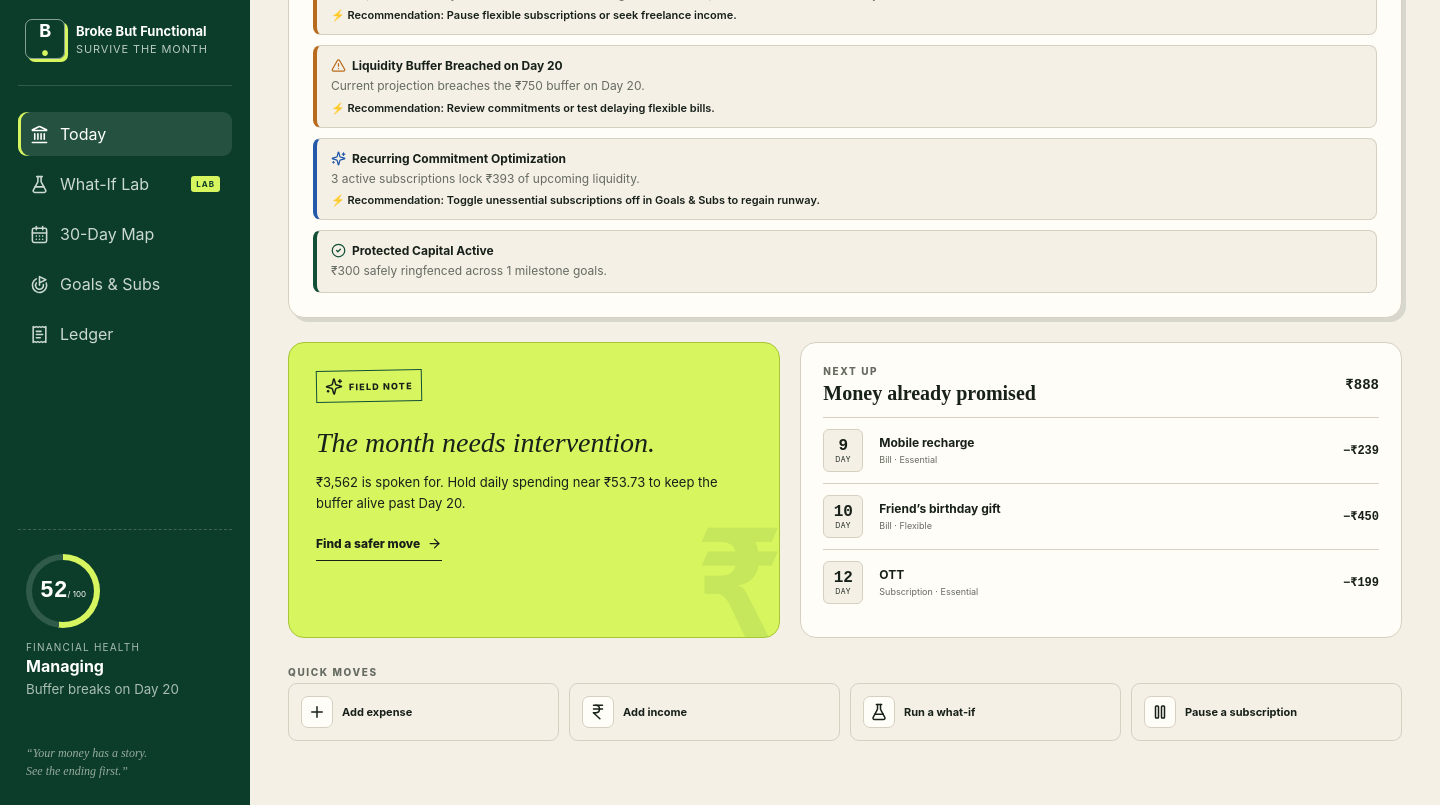
Test: MoneyApp interactions › opens a labelled dialog and closes it with Escape
(page scrolled)
Step 1. Click the button "Add expense" → point(317, 712), box top-left (288, 683), bottom-right (559, 741)
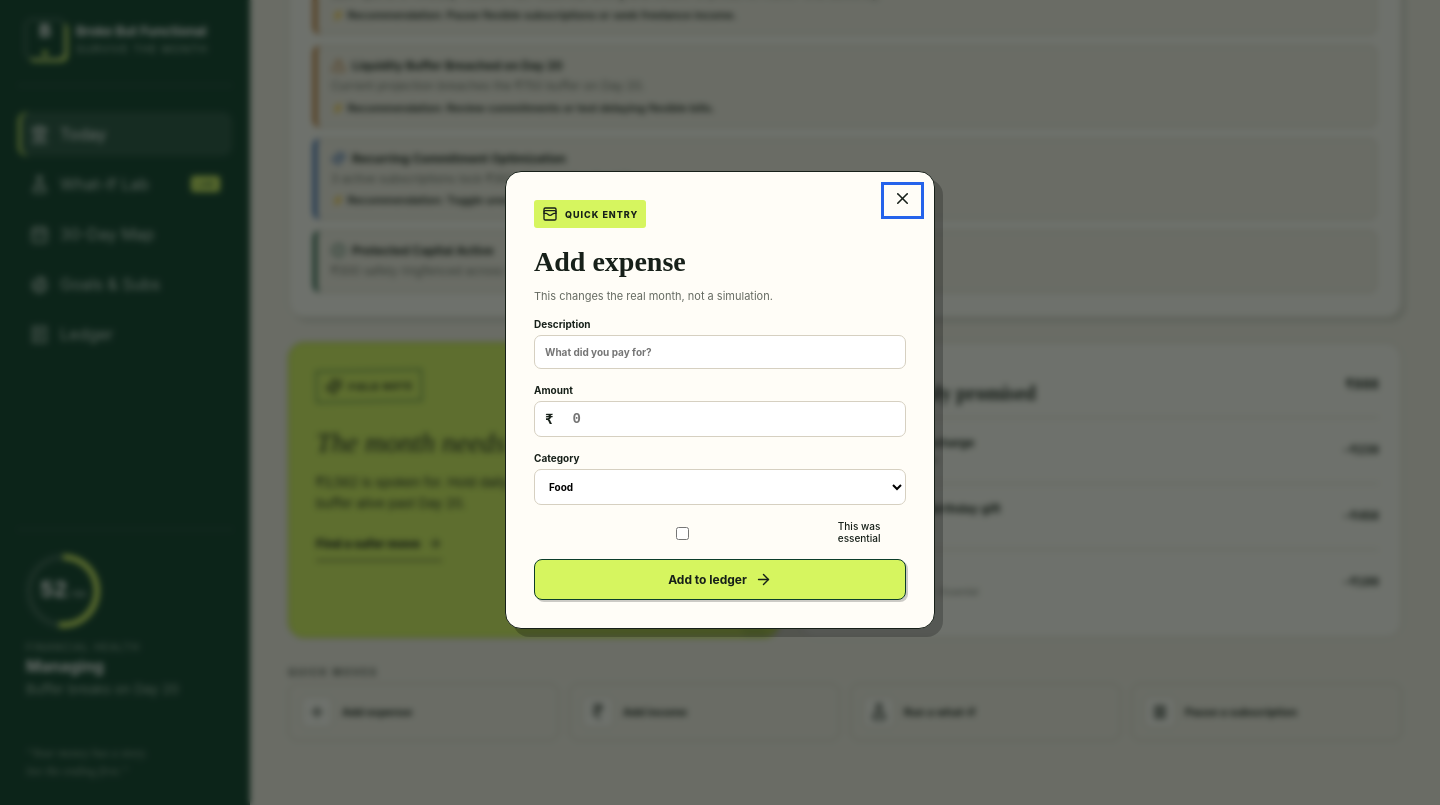
Now the dialog "Add expense" is shown, box top-left (505, 171), bottom-right (935, 629)
Step 2. Press Escape
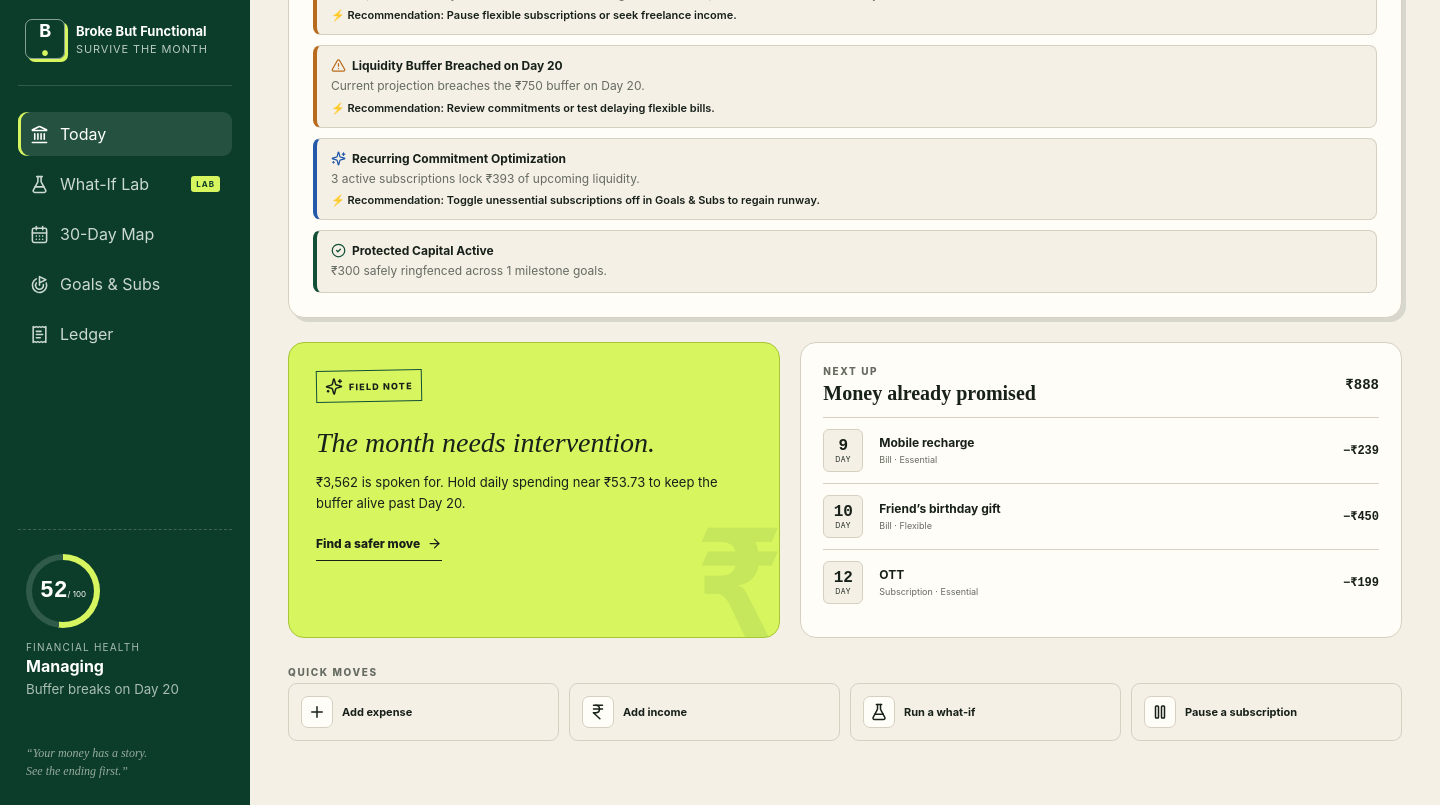
Now the dialog is gone
